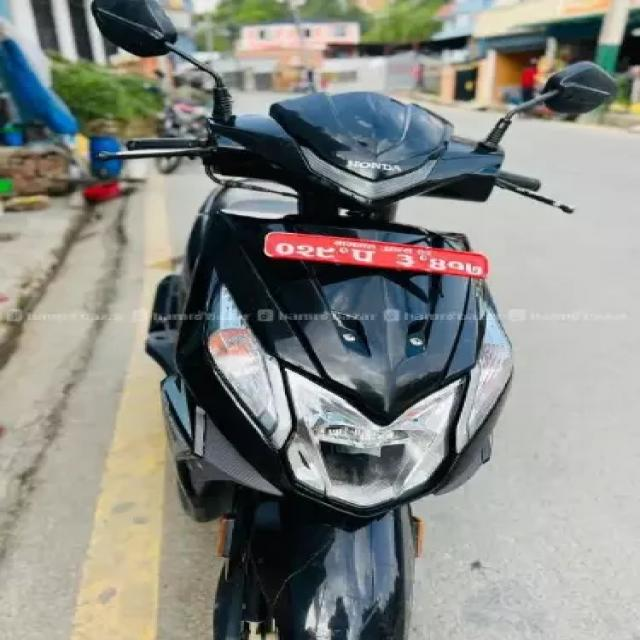License-plate: (256, 225, 490, 282)
